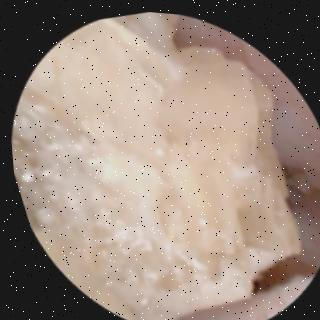stone: (13, 12, 297, 320)
